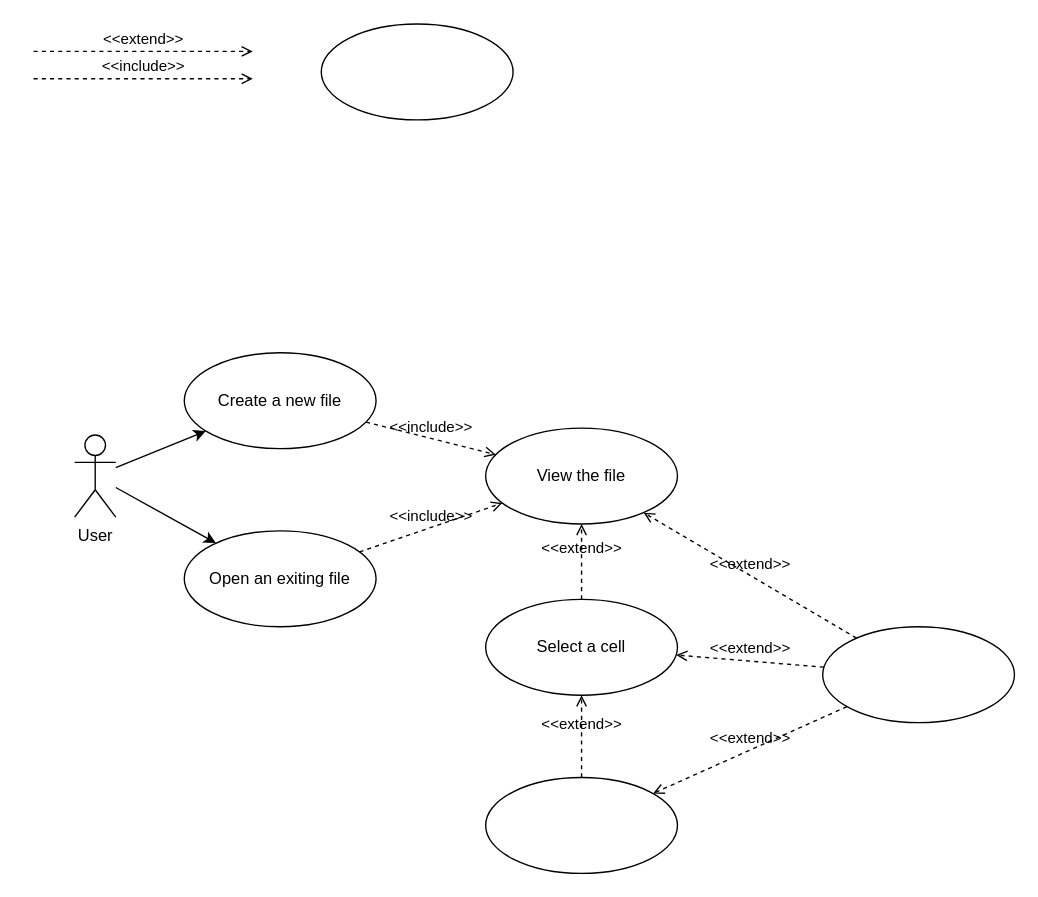
Image size: 1038x897. Some labels were removed from this diagram. The centre of each missing label's shape, as x and y in pixels:
"Edit the text of the cell" belongs at [580,824].
"Save the file" belongs at [917,674].
"Use case" belongs at [416,71].
